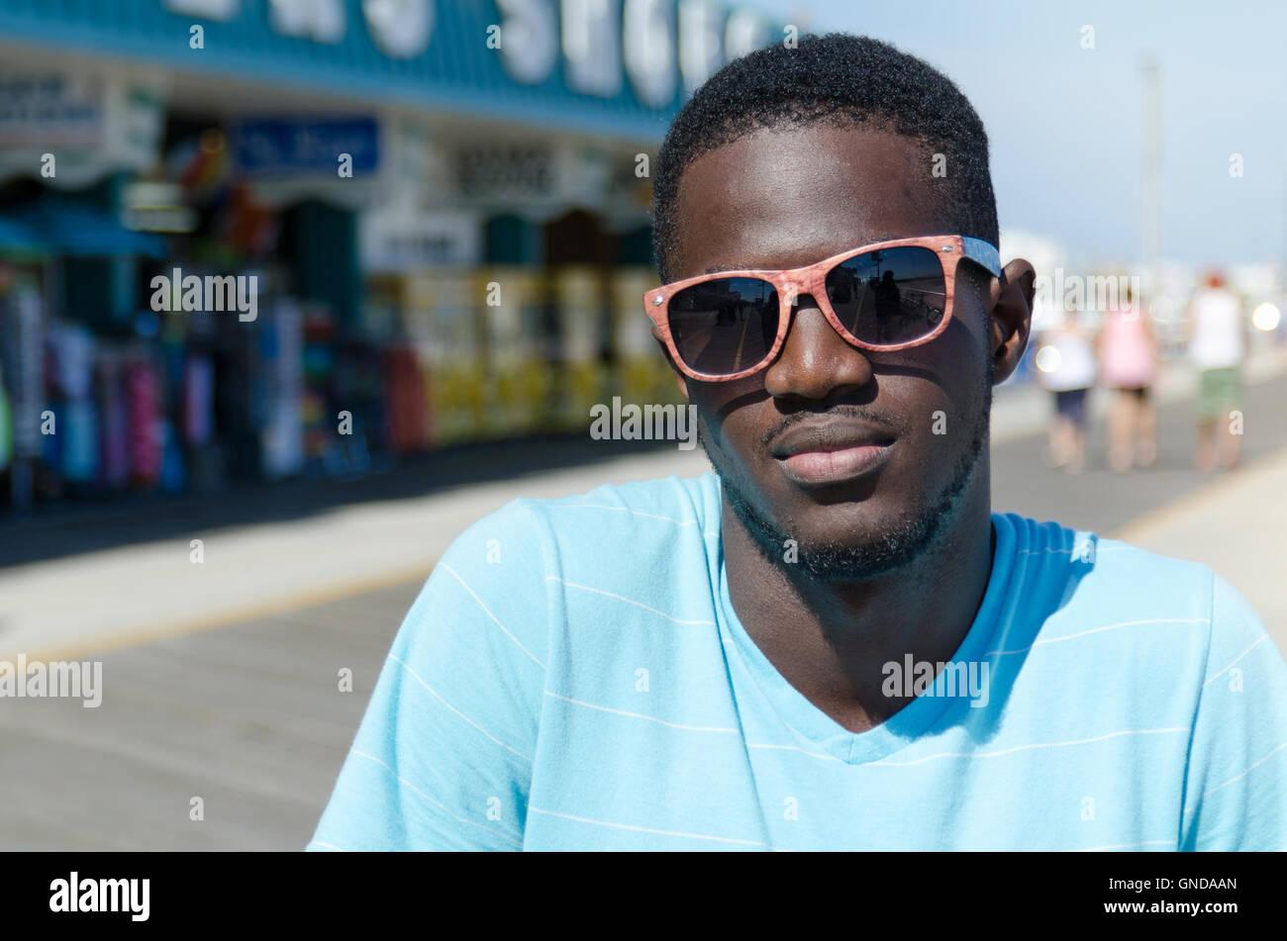sunglasses: (634, 228, 998, 396)
